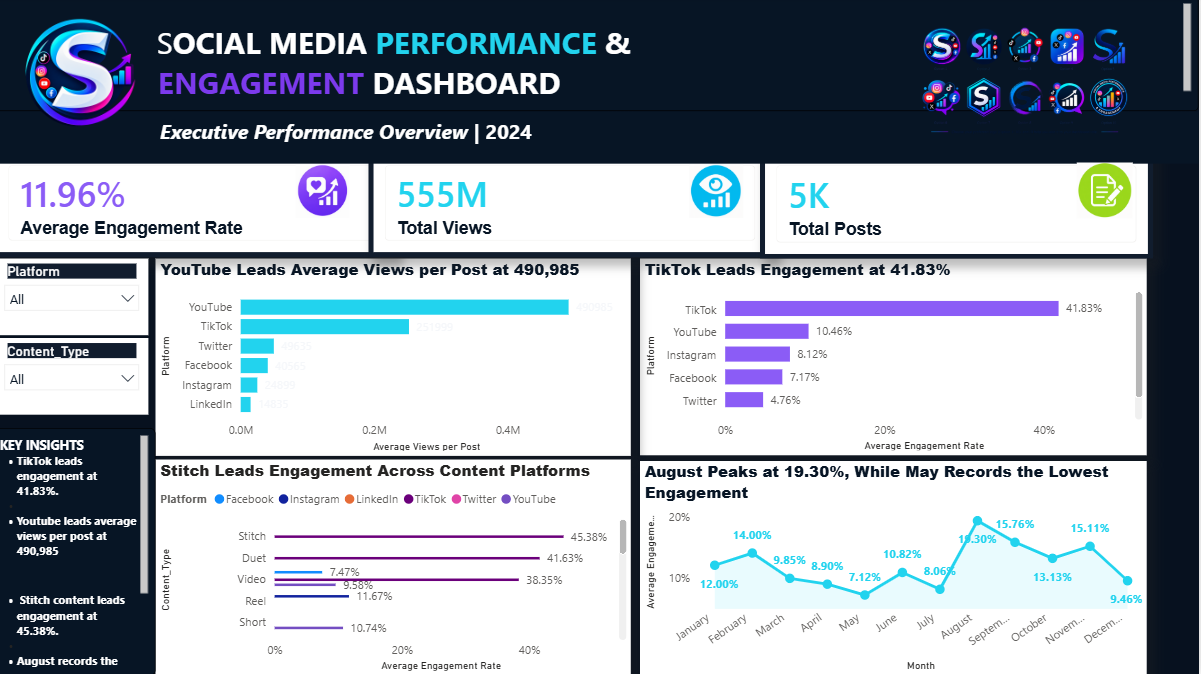

The dashboard page shown, as its layout file describes it:
{"tool":"powerbi","page":{"name":"Page 1","canvas":[1280,720],"ordinal":0},"visuals":[{"type":"clusteredBarChart","title":"TikTok Leads Engagement at 41.83%","fields":{"Category":["Blisscotech_Hackathon_Cleaned_D.Platform"],"Y":["Blisscotech_Hackathon_Cleaned_D.Average Engagement Rate"]},"box":[687.1,278.4,537.6,208.4],"z":0},{"type":"clusteredBarChart","title":"YouTube Leads Average Views per Post at 490,985","fields":{"Category":["Blisscotech_Hackathon_Cleaned_D.Platform"],"Y":["Blisscotech_Hackathon_Cleaned_D.Average Views per Post"]},"box":[174.1,277.8,503.7,209.3],"z":1000},{"type":"cardVisual","fields":{"Data":["Blisscotech_Hackathon_Cleaned_D.Average Engagement Rate"]},"box":[0,163,425.9,114.8],"z":2000},{"type":"cardVisual","fields":{"Data":["Blisscotech_Hackathon_Cleaned_D.Total Views"]},"box":[400,163,427.8,114.8],"z":3000},{"type":"cardVisual","fields":{"Data":["Blisscotech_Hackathon_Cleaned_D.Total Posts"]},"box":[814.4,162.2,416.7,116.1],"z":4000},{"type":"slicer","fields":{"Values":["Blisscotech_Hackathon_Cleaned_D.Platform"]},"box":[3.7,277.8,163,81.5],"z":5000},{"type":"slicer","fields":{"Values":["Blisscotech_Hackathon_Cleaned_D.Content_Type"]},"box":[3.7,363,163,81.5],"z":6000},{"type":"textbox","box":[0,0,1279.6,122.2],"z":7000},{"type":"textbox","box":[3.7,122.2,1275.9,55.6],"z":8000},{"type":"clusteredBarChart","title":"Stitch Leads Engagement Across Content Platforms","fields":{"Category":["Blisscotech_Hackathon_Cleaned_D.Content_Type"],"Y":["Blisscotech_Hackathon_Cleaned_D.Average Engagement Rate"],"Series":["Blisscotech_Hackathon_Cleaned_D.Platform"]},"box":[173.4,491.5,504.2,229],"z":9000},{"type":"lineChart","title":"August Peaks at 19.30%, While May Records the Lowest Engagement","fields":{"Category":["Blisscotech_Hackathon_Cleaned_D.Post_Date.Variation.Date Hierarchy.Month"],"Y":["Blisscotech_Hackathon_Cleaned_D.Average Engagement Rate"]},"box":[687.1,493.1,537.6,227.5],"z":10000},{"type":"image","box":[300,177.8,100,57.4],"z":11000},{"type":"image","box":[720.4,177.8,94.4,57.4],"z":12000},{"type":"image","box":[1135.2,175.9,88.9,59.3],"z":13000},{"type":"textbox","box":[0,458.1,173.4,262.5],"z":14000},{"type":"image","box":[0,22.2,187,122.2],"z":15000},{"type":"image","box":[959.3,24.1,272.2,125.9],"z":16000}]}

Visuals, with their boxes in screenshot pixels (x1, y1, x2, y2), scaled from the page's 1280x720 canvas onto the 1201x674 screenshot:
"TikTok Leads Engagement at 41.83%" clusteredBarChart: bbox=(645, 261, 1149, 456)
"YouTube Leads Average Views per Post at 490,985" clusteredBarChart: bbox=(163, 260, 636, 456)
cardVisual - Blisscotech_Hackathon_Cleaned_D.Average Engagement Rate: bbox=(0, 153, 400, 260)
cardVisual - Blisscotech_Hackathon_Cleaned_D.Total Views: bbox=(375, 153, 777, 260)
cardVisual - Blisscotech_Hackathon_Cleaned_D.Total Posts: bbox=(764, 152, 1155, 261)
slicer - Blisscotech_Hackathon_Cleaned_D.Platform: bbox=(3, 260, 156, 336)
slicer - Blisscotech_Hackathon_Cleaned_D.Content_Type: bbox=(3, 340, 156, 416)
textbox: bbox=(0, 0, 1200, 114)
textbox: bbox=(3, 114, 1200, 166)
"Stitch Leads Engagement Across Content Platforms" clusteredBarChart: bbox=(163, 460, 636, 673)
"August Peaks at 19.30%, While May Records the Lowest Engagement" lineChart: bbox=(645, 462, 1149, 673)
image: bbox=(281, 166, 375, 220)
image: bbox=(676, 166, 765, 220)
image: bbox=(1065, 165, 1149, 220)
textbox: bbox=(0, 429, 163, 673)
image: bbox=(0, 21, 175, 135)
image: bbox=(900, 23, 1155, 140)
